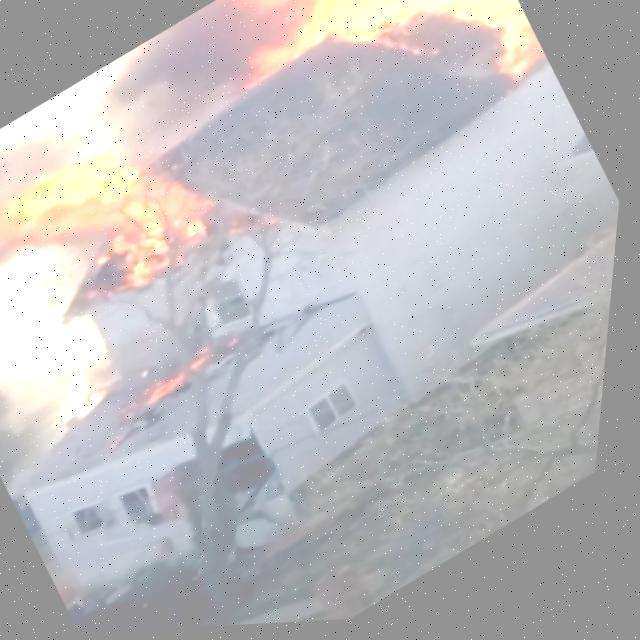Fire: (208, 0, 560, 210), (0, 69, 243, 357)
Smoke: (71, 0, 344, 181)
